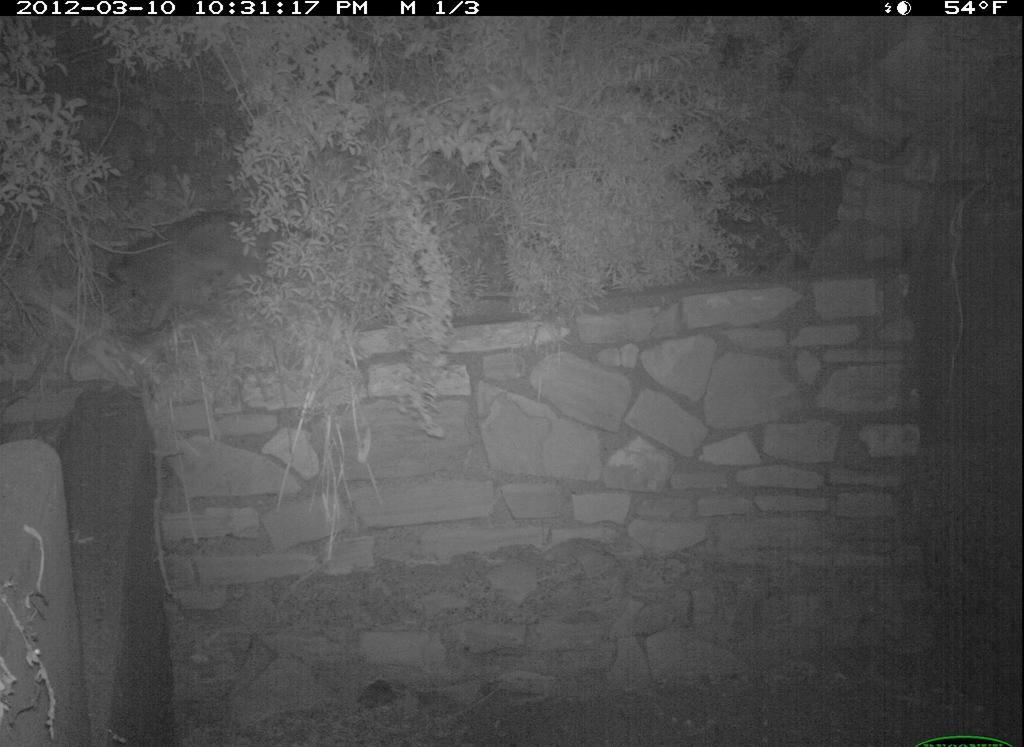raccoon: (99, 209, 332, 336)
